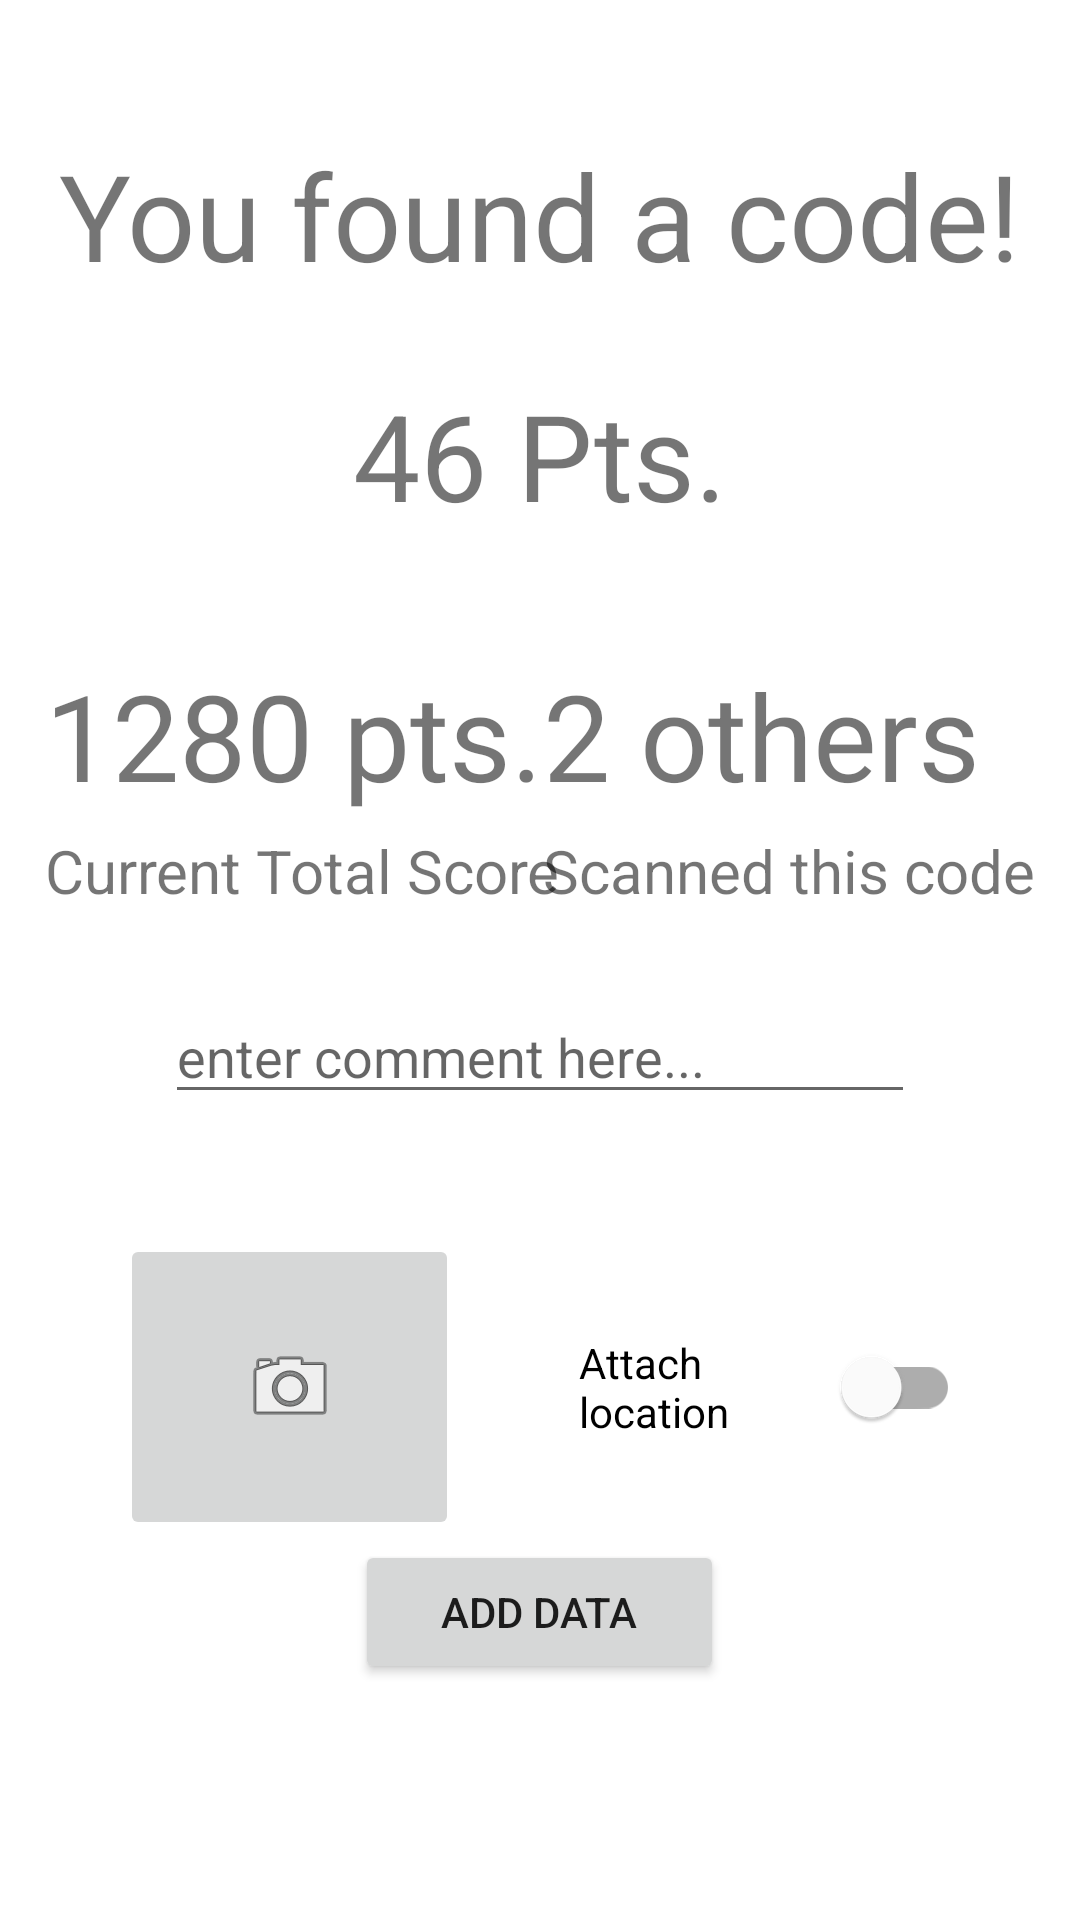

Icon click points for this 1080px×1920px phone screenshot, format (x,y):
camera: (289,1387)
